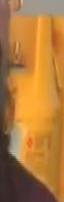cylinder: (0, 1, 64, 202)
